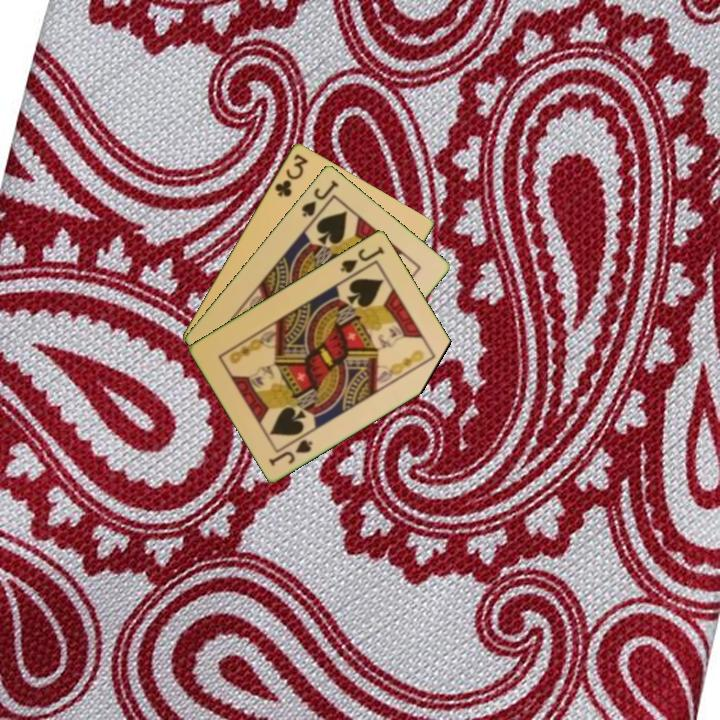3c: (271, 150, 311, 199)
Js: (298, 176, 342, 220), (337, 242, 387, 276), (265, 436, 316, 469)
